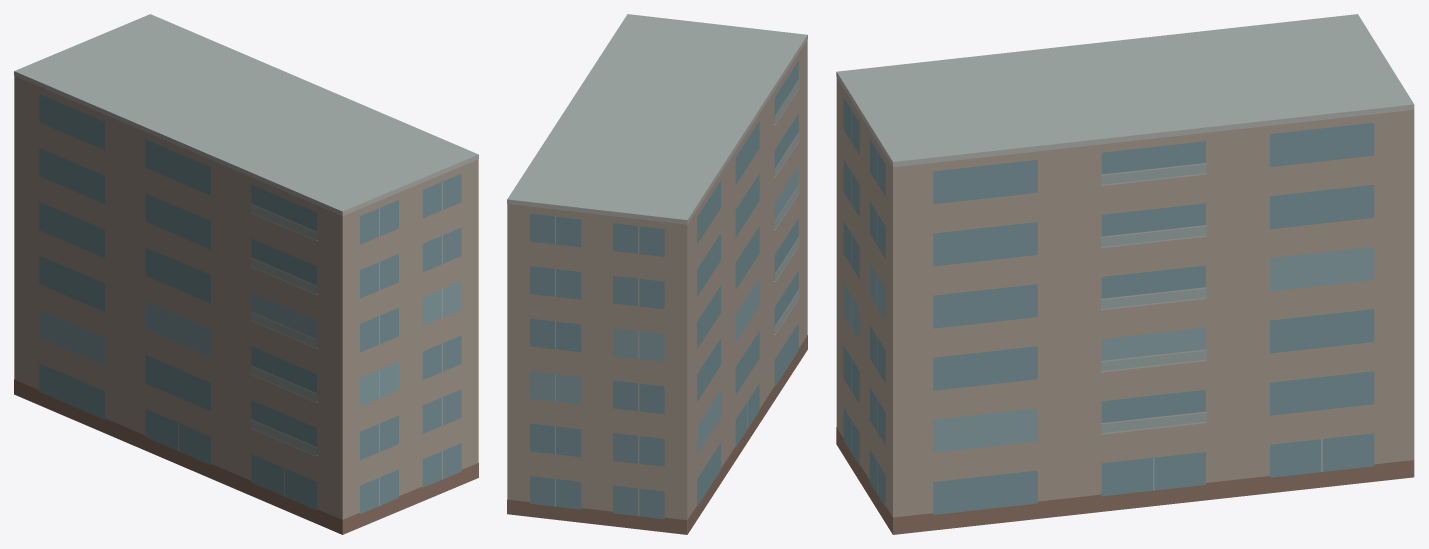
The model's file is survey-upis-32722132.glb.
3 renders of one model, left to right at view 1: azimuth 30°, elevation 25°; view 2: azimuth 150°, elevation 25°; view 3: azimuth 270°, elevation 25°, orthographic. The views are drawn at different scales.
Visible parts, largest first — view 1: survey-upis-32722132.tmp; view 2: survey-upis-32722132.tmp; view 3: survey-upis-32722132.tmp.
Boxes of the visible parts, x1=… form: survey-upis-32722132.tmp: x1=14, y1=14, x2=478, y2=534; survey-upis-32722132.tmp: x1=507, y1=14, x2=807, y2=534; survey-upis-32722132.tmp: x1=836, y1=14, x2=1414, y2=534.
Bounding box in the file's own units: 14.49 × 17 × 23.88.
